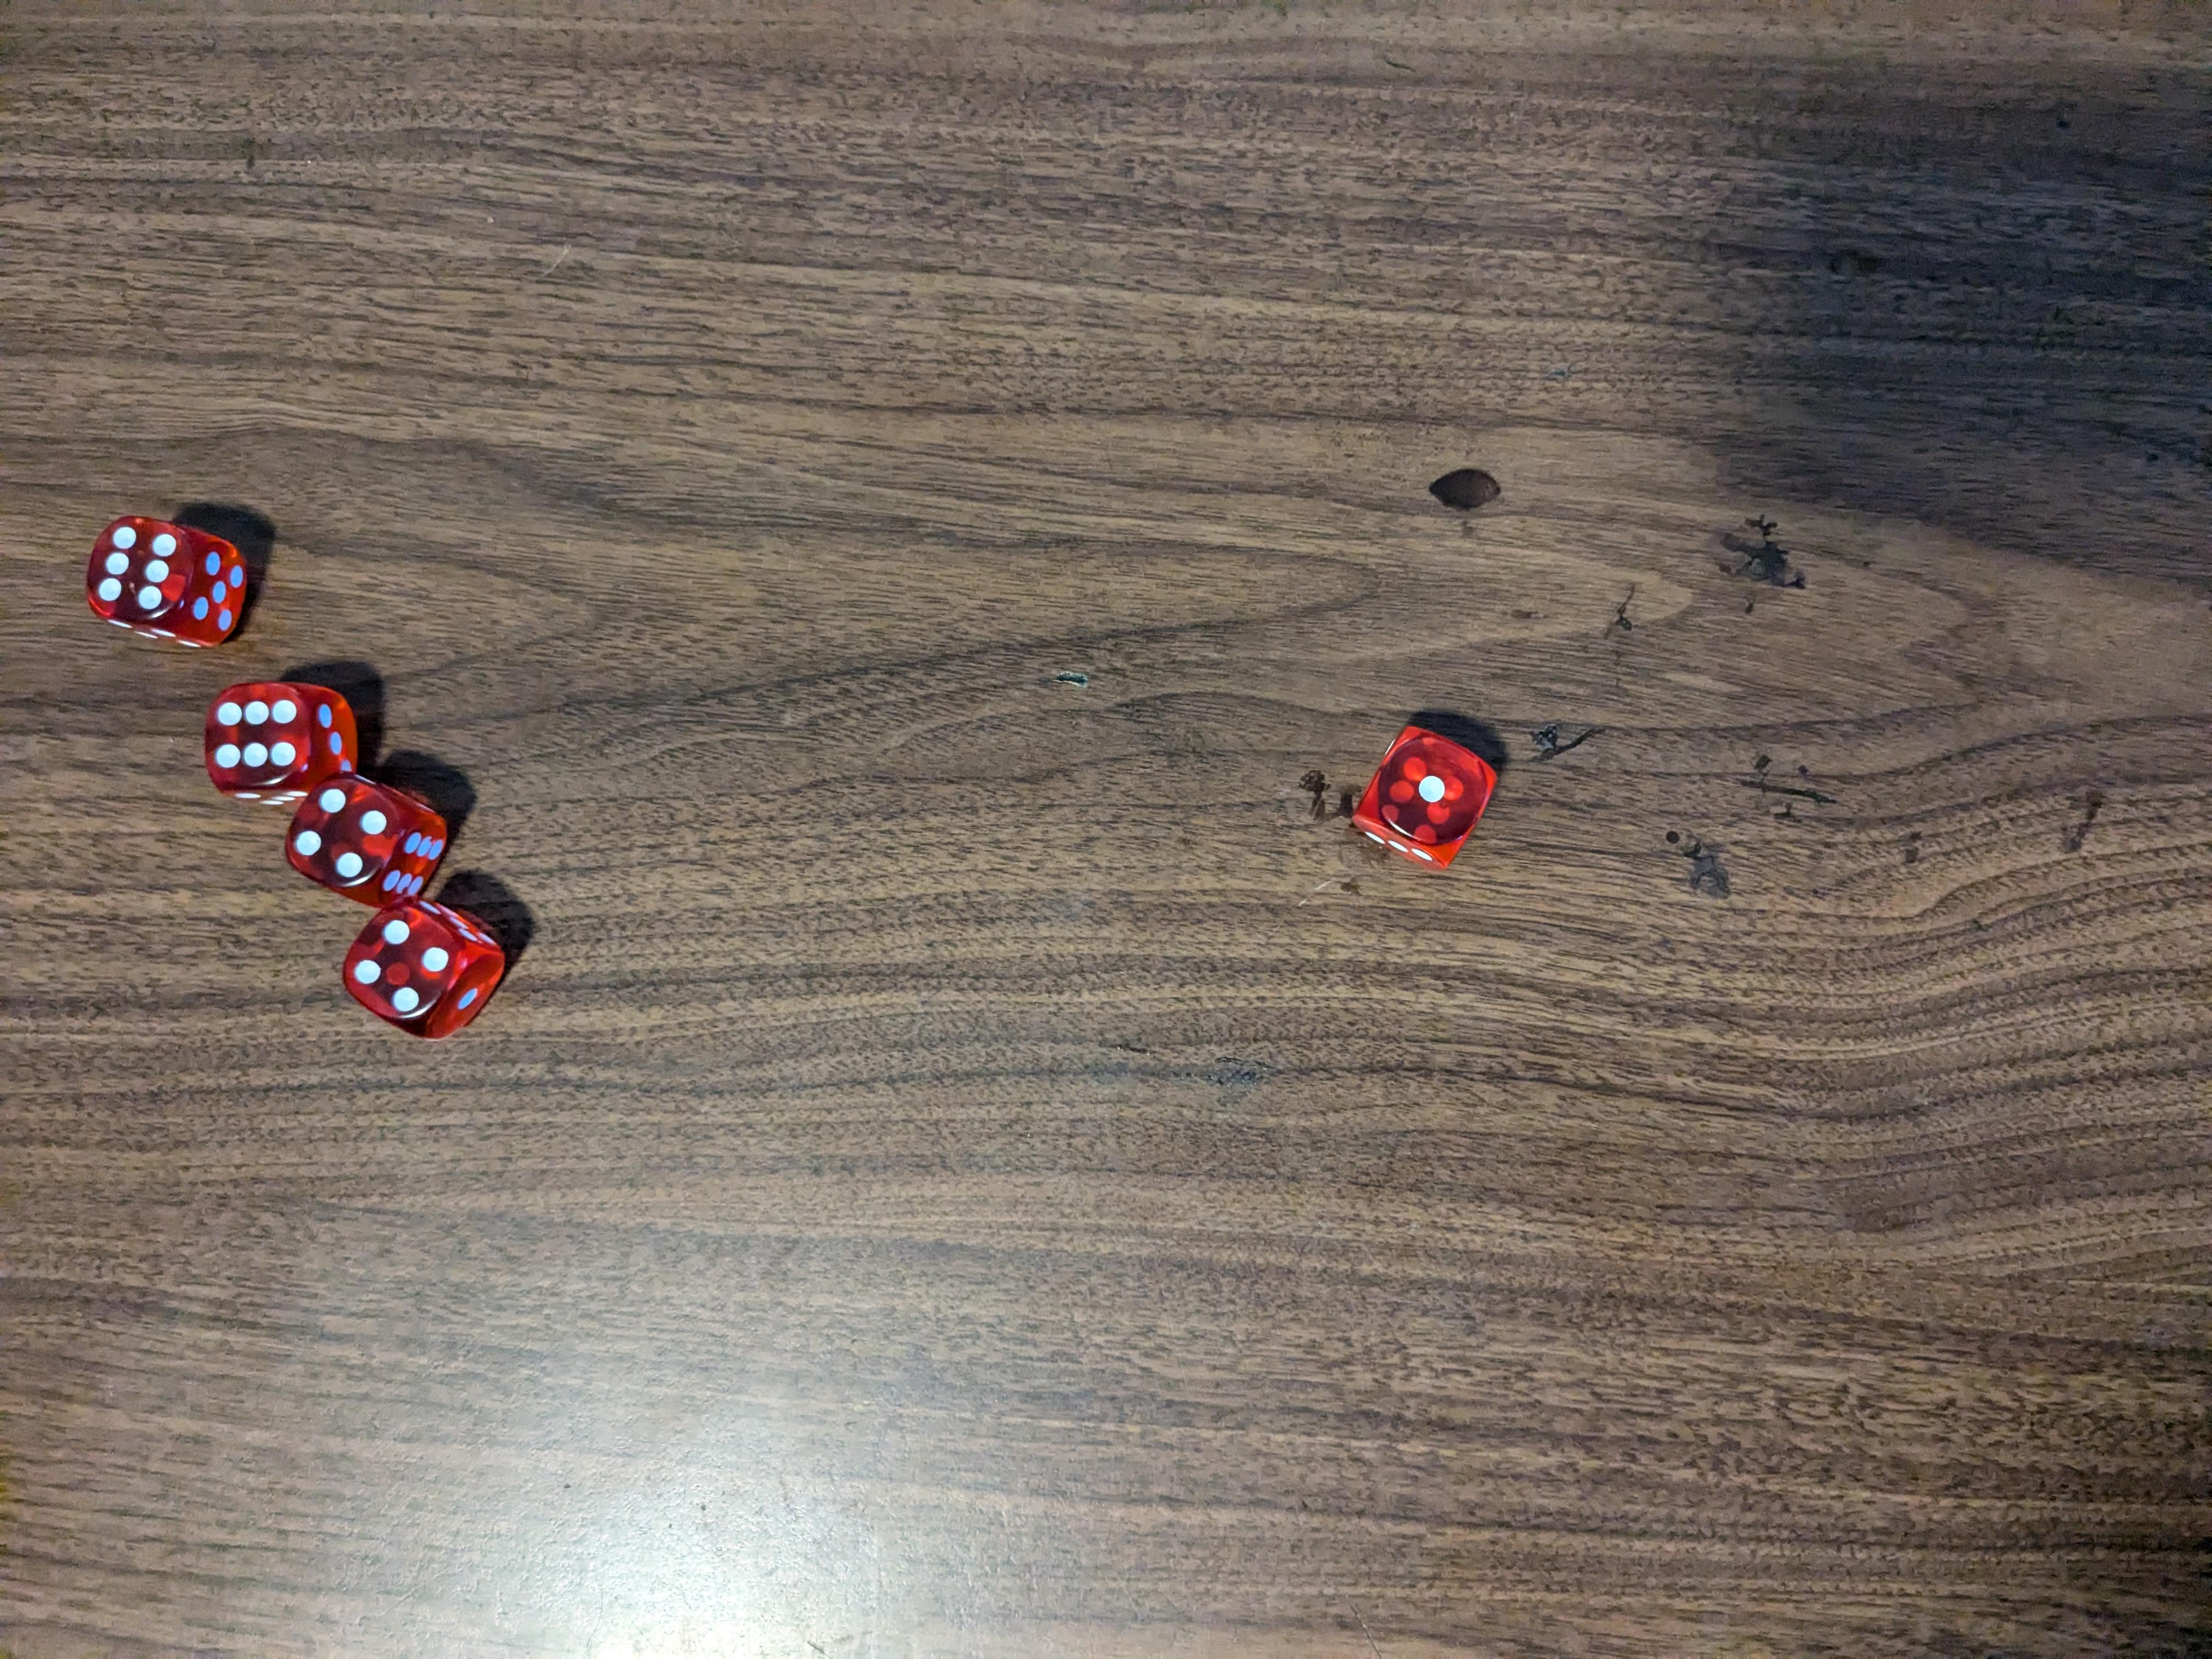four: (341, 903, 514, 1044), (284, 772, 451, 913)
one: (1357, 718, 1501, 866)
six: (87, 507, 258, 655), (204, 674, 366, 810)
